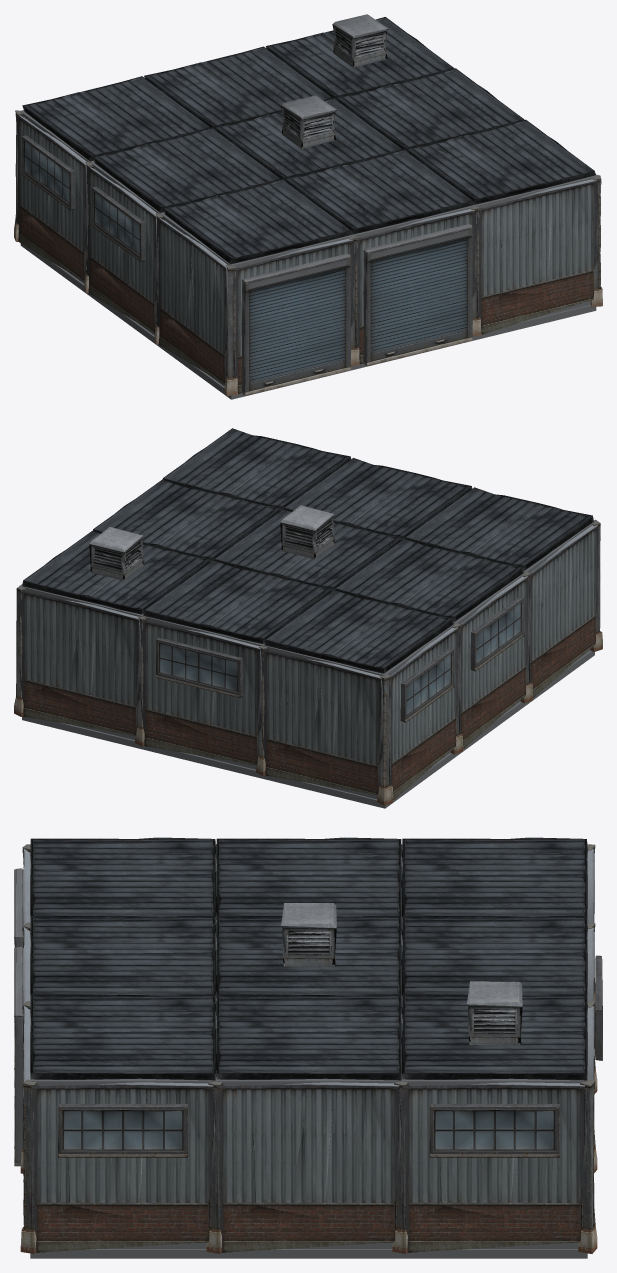
Rendered from compact-depot.glb.
3 renders of one model, top to bottom at view 1: azimuth 30°, elevation 25°; view 2: azimuth 150°, elevation 25°; view 3: azimuth 270°, elevation 25°, orthographic. The views are drawn at different scales.
Visible parts, largest first — view 1: wall_046, door_042, door_029, roof_001, roof_010, roof_019, wall_030, roof_004, roof_007, roof_022, roof_016, wall_032 (+16 smaller); view 2: wall_056, wall_035, wall_043, roof_007, roof_016, roof_001, roof_004, wall_030, roof_019, roof_010, roof_022, roof_025 (+17 smaller); view 3: wall_051, wall_053, wall_048, roof_022, roof_019, roof_007, roof_001, roof_010, roof_004, roof_016, roof_025, roof_013 (+26 smaller).
Boxes of the visible parts, x1=… form: wall_046: x1=477, y1=179, x2=598, y2=334; door_042: x1=363, y1=224, x2=472, y2=365; door_029: x1=241, y1=254, x2=350, y2=395; roof_001: x1=163, y1=179, x2=352, y2=264; roof_010: x1=284, y1=149, x2=474, y2=234; roof_019: x1=406, y1=119, x2=595, y2=204; wall_030: x1=156, y1=216, x2=227, y2=384; roof_004: x1=92, y1=127, x2=280, y2=212; roof_007: x1=22, y1=76, x2=210, y2=161; roof_022: x1=336, y1=68, x2=524, y2=150; roof_016: x1=144, y1=46, x2=332, y2=128; wall_032: x1=86, y1=165, x2=157, y2=333; wall_056: x1=20, y1=589, x2=140, y2=735; wall_035: x1=262, y1=648, x2=382, y2=794; wall_043: x1=141, y1=619, x2=261, y2=765; roof_007: x1=264, y1=589, x2=454, y2=673; roof_016: x1=143, y1=560, x2=332, y2=643; roof_001: x1=405, y1=487, x2=593, y2=570; roof_004: x1=335, y1=538, x2=524, y2=621; wall_030: x1=528, y1=525, x2=598, y2=697; roof_019: x1=162, y1=428, x2=351, y2=510; roof_010: x1=283, y1=458, x2=472, y2=539; roof_022: x1=93, y1=479, x2=281, y2=560; roof_025: x1=22, y1=530, x2=211, y2=614; wall_051: x1=216, y1=1082, x2=401, y2=1252; wall_053: x1=402, y1=1082, x2=587, y2=1252; wall_048: x1=30, y1=1082, x2=215, y2=1252; roof_022: x1=216, y1=994, x2=401, y2=1080; roof_019: x1=30, y1=994, x2=215, y2=1080; roof_007: x1=402, y1=837, x2=587, y2=919; roof_001: x1=30, y1=837, x2=215, y2=918; roof_010: x1=30, y1=916, x2=215, y2=997; roof_004: x1=216, y1=837, x2=401, y2=922; roof_016: x1=402, y1=916, x2=587, y2=998; roof_025: x1=402, y1=994, x2=587, y2=1080; roof_013: x1=216, y1=916, x2=401, y2=1000.
Size of the model in its own units: 12.66 by 5.41 by 12.68.
Materials: 7 (6 with a texture image).
